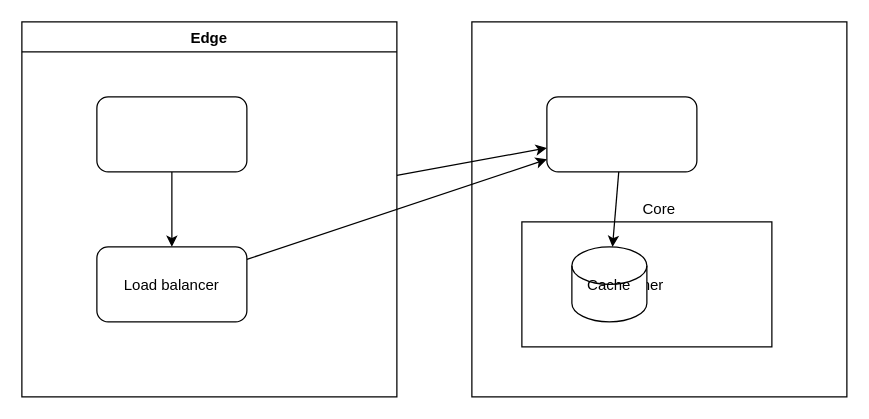
The diagram is 869 pixels wide and 419 high, and some of its shapes have lost their labels. Here are the shapes that lost their labels. From the top down, the centre of each, then its label:
(171,134): CDN
(621,134): App
